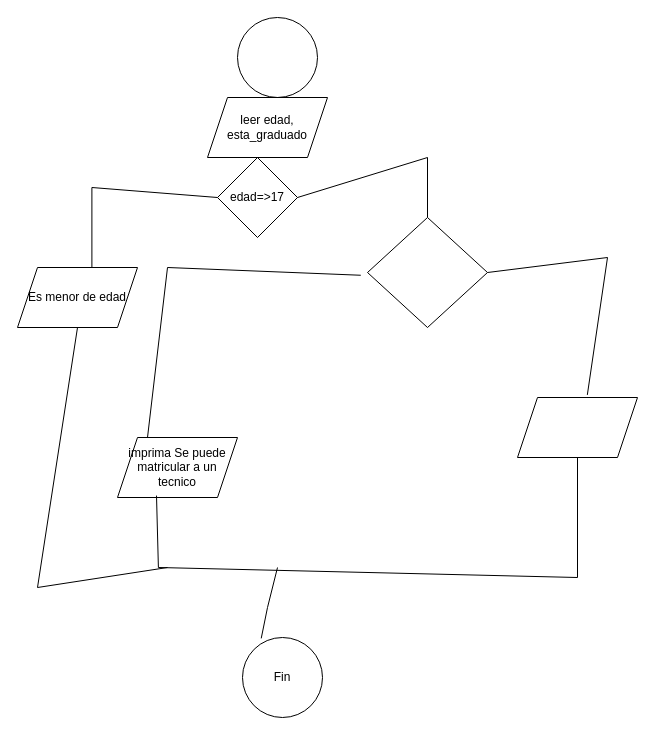
The diagram is 655 pixels wide and 735 high, and some of its shapes have lost their labels. The box of each missing label's shape, as (x1, y1, x2, y2) in pixels:
Esta_graduado ==si-: (366, 216, 488, 328)
imprima Se puede matricular a bachillerato: (516, 396, 638, 458)
Inicio: (236, 16, 318, 98)
